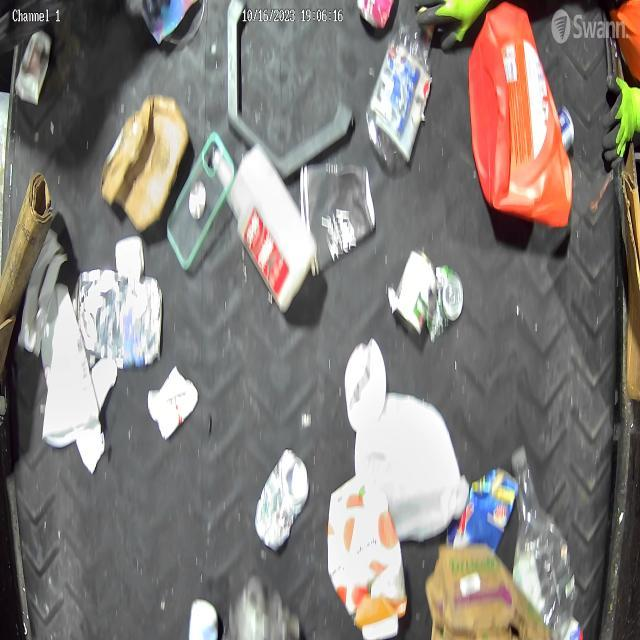can: (73, 268, 164, 367), (252, 447, 310, 552), (388, 248, 438, 340), (14, 29, 53, 102), (436, 266, 464, 342), (557, 103, 576, 151)
milk_jug: (209, 139, 316, 313), (354, 388, 469, 546)
non_white_jug: (468, 0, 572, 226), (329, 473, 409, 640)
plastic_bottle: (508, 448, 578, 634), (366, 8, 436, 170)
